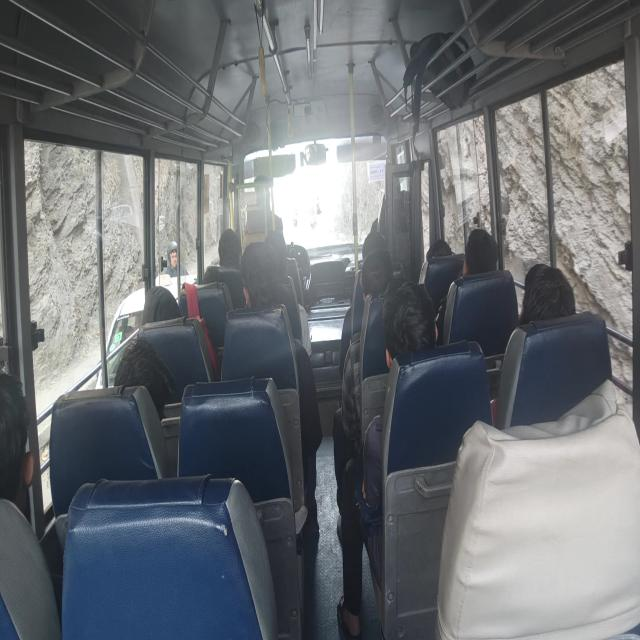person: (112, 334, 176, 424), (514, 267, 570, 344), (8, 374, 41, 501), (390, 296, 440, 376), (361, 258, 403, 321), (243, 242, 276, 317), (218, 207, 246, 280), (145, 279, 174, 341), (465, 242, 505, 282), (192, 258, 227, 296), (266, 238, 291, 274), (355, 231, 390, 254), (422, 242, 453, 261)
